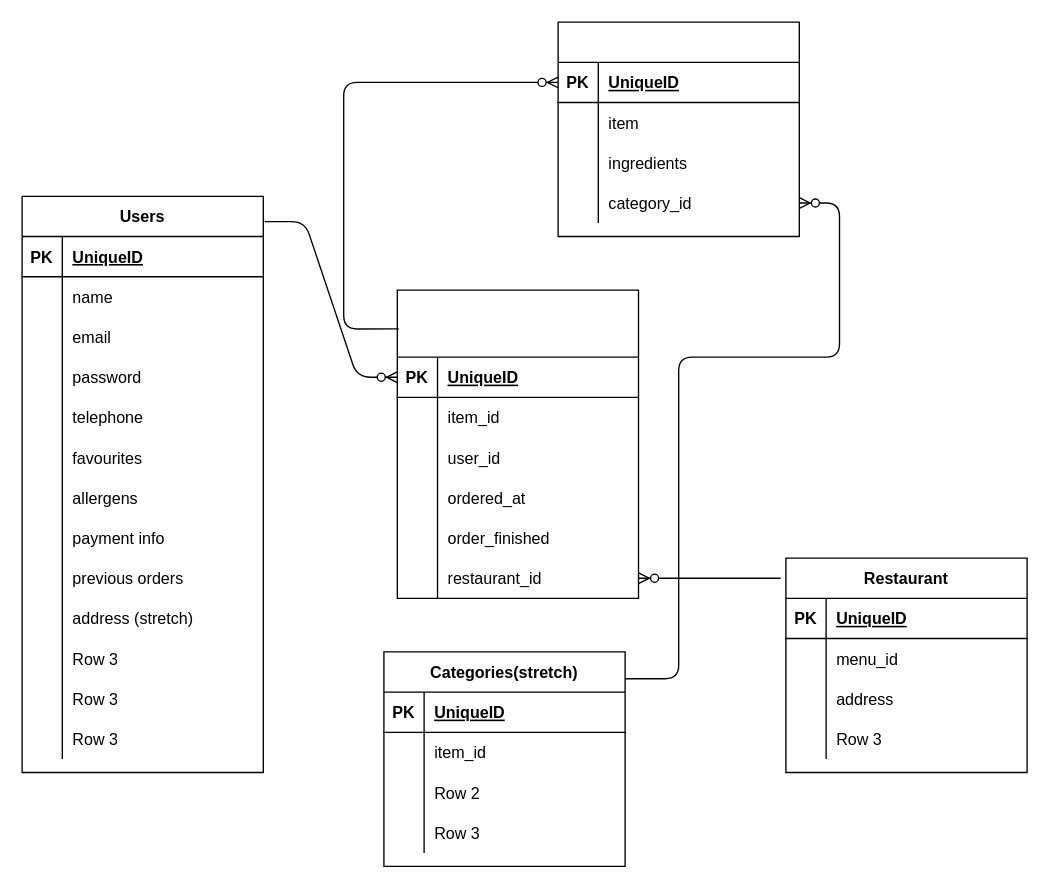
This 1049x888 diagram has some shape labels left out. Here are the shapes that lost their labels. From the top down, the box of each, then its label:
(557, 21, 799, 237): Items
(396, 289, 639, 598): Orders
